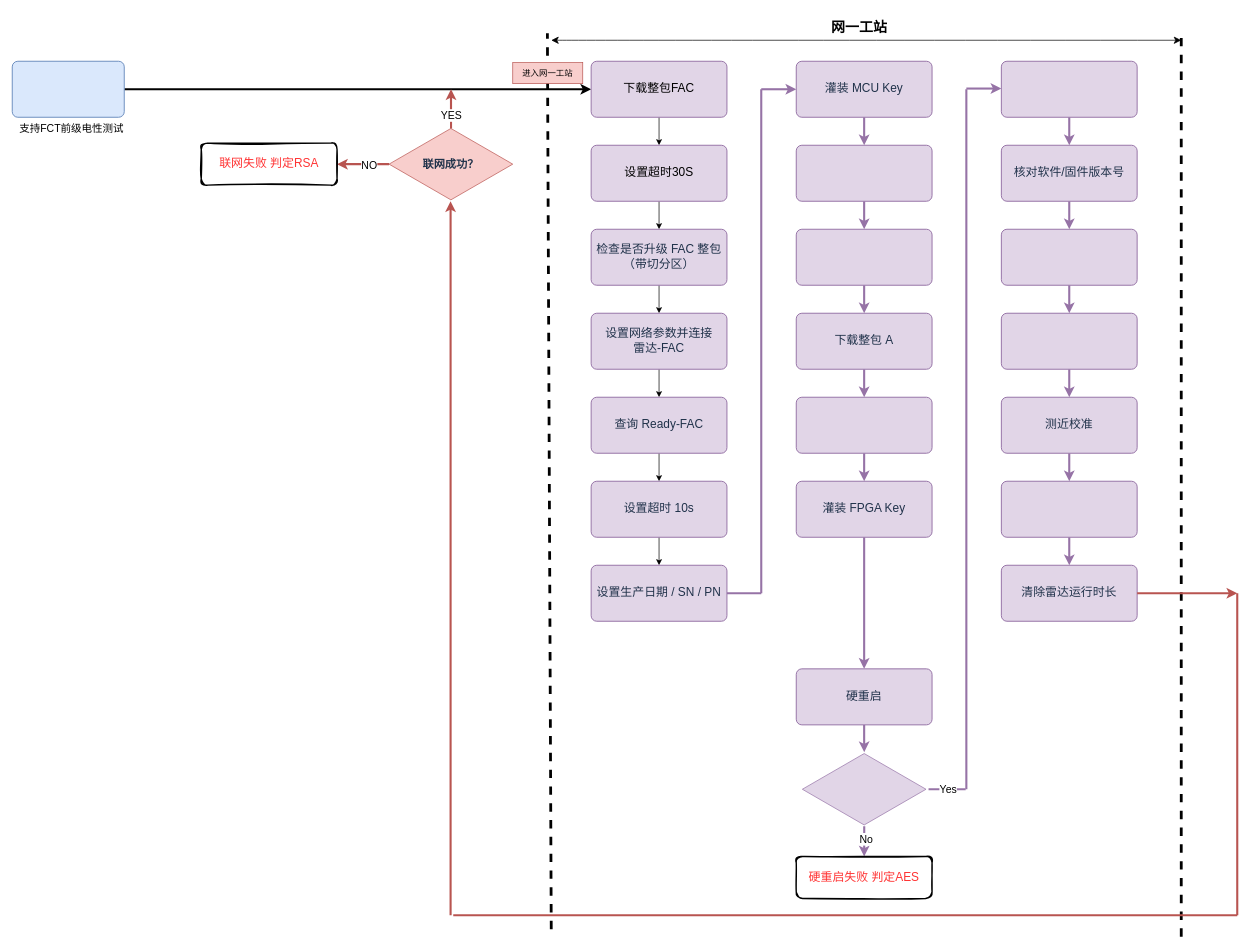
Image size: 1257x951. Some labels were removed from this diagram. Here are the shapes that lost their labels. From the top down, the centre of each, then its label:
[67,88]: 单板预烧录版本
[1069,88]: 核对SN/PN
[863,172]: 灌装 JTAG Key
[863,256]: 设置密码类型等参数
[1069,256]: 核对配置参数版本版本号
[1069,340]: 软件/固件/配置参数版本号
[863,424]: 程序升级 A（带切分区）
[1069,508]: 故障信息清除
[864,788]: 硬重启成功？
